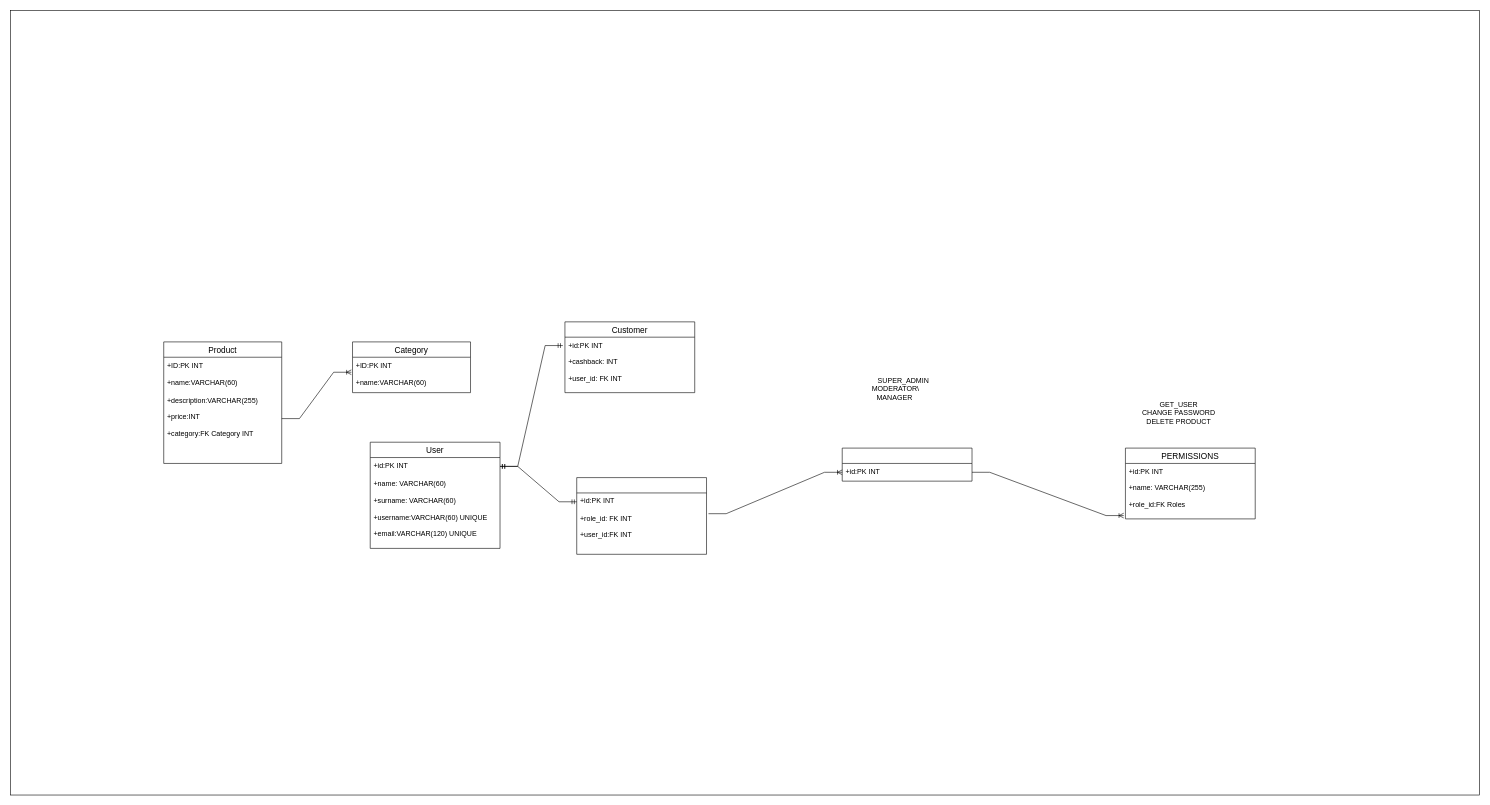
This 1490x805 diagram has some shape labels left out. The shapes that lost their labels are listed below. From the top down, each one's box as (x1, y1, x2, y2) in pixels, then its label:
(842, 448, 972, 481): Role
(576, 477, 707, 554): Admin
